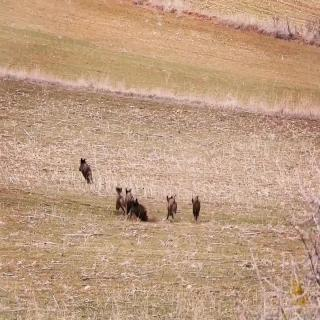Pig: (161, 190, 184, 226), (77, 148, 93, 199), (113, 184, 128, 219)
